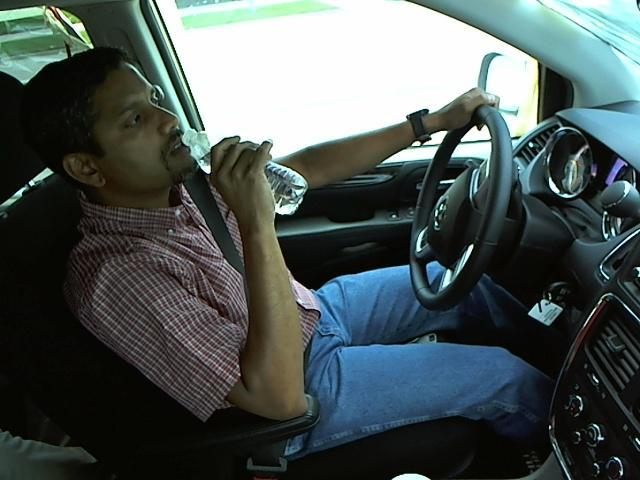Drinking: (63, 60, 306, 220)
